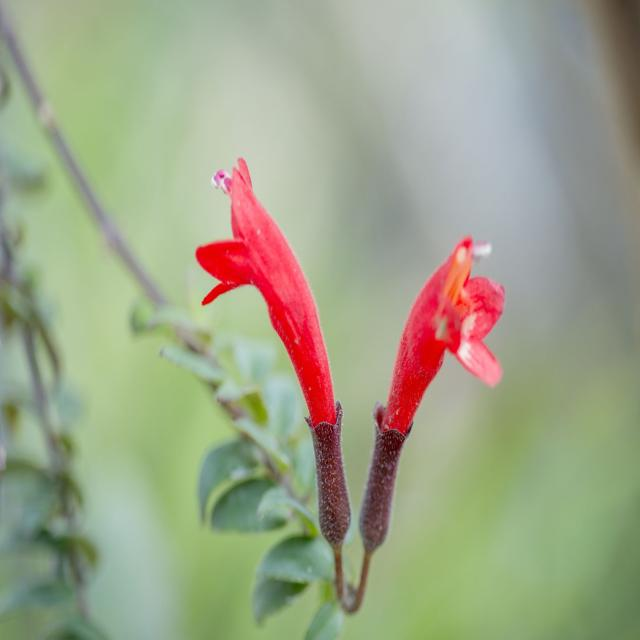Lipstick-Plant: (192, 147, 510, 564)
